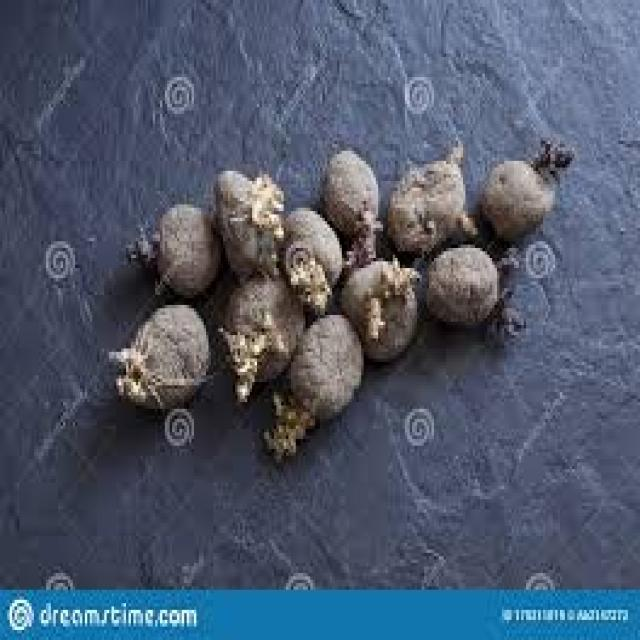organic waste: (259, 308, 359, 462), (216, 268, 305, 399), (104, 302, 204, 408), (383, 137, 478, 248), (422, 238, 524, 338), (124, 201, 218, 295), (480, 138, 570, 235), (337, 254, 419, 358), (211, 165, 281, 272), (320, 144, 381, 265), (279, 201, 339, 308)
